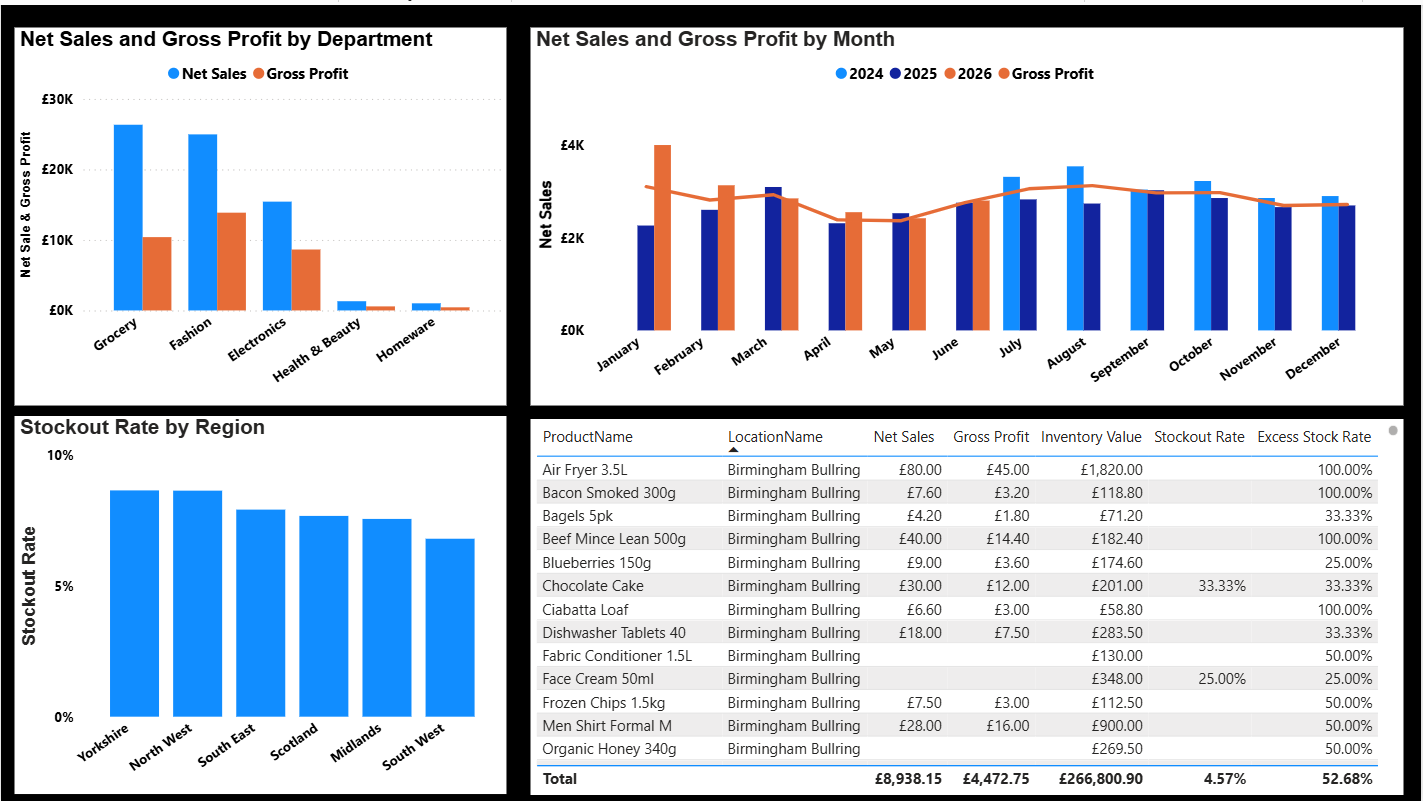

What the dashboard file says about the page in this screenshot:
{"tool":"powerbi","page":{"name":"Inventory and Profit Analysis ","canvas":[1280,720],"ordinal":1},"visuals":[{"type":"clusteredColumnChart","fields":{"Category":["Dim_Product.Department"],"Y":["Measures Table.Net Sales","Measures Table.Gross Profit"]},"box":[12.2,20.3,443.4,340.6],"z":0},{"type":"lineClusteredColumnComboChart","title":"Net Sales and Gross Profit by Month","fields":{"Category":["Dim_Date.MonthName"],"Series":["Dim_Date.Year"],"Y":["Measures Table.Net Sales"],"Y2":["Measures Table.Gross Profit"]},"box":[477.2,20.3,786.7,340.6],"z":1000},{"type":"clusteredColumnChart","fields":{"Category":["Dim_Location.Region"],"Y":["Measures Table.Stockout Rate"]},"box":[12.2,370.4,443.4,340.6],"z":1005},{"type":"tableEx","fields":{"Values":["Dim_Product.ProductName","Dim_Location.LocationName","Measures Table.Net Sales","Measures Table.Gross Profit","Measures Table.Inventory Value","Measures Table.Stockout Rate","Measures Table.Excess Stock Rate"]},"box":[477.2,373.1,786.7,337.9],"z":1007}]}

Visuals, with their boxes in screenshot pixels (x1, y1, x2, y2), scaled from the page's 1280x720 canvas onto the 1423x801 screenshot:
clusteredColumnChart - Dim_Product.Department x Measures Table.Net Sales: <bbox>14, 23, 506, 402</bbox>
"Net Sales and Gross Profit by Month" lineClusteredColumnComboChart: <bbox>531, 23, 1405, 402</bbox>
clusteredColumnChart - Dim_Location.Region x Measures Table.Stockout Rate: <bbox>14, 412, 506, 791</bbox>
tableEx - Dim_Product.ProductName x Dim_Location.LocationName: <bbox>531, 415, 1405, 791</bbox>
